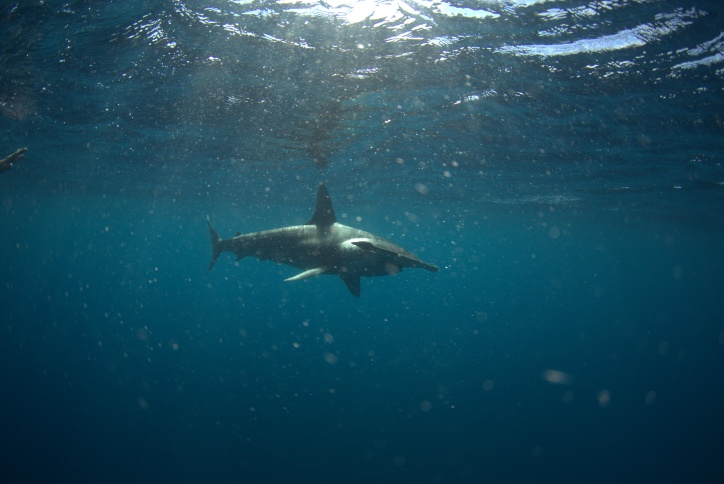Hammer: (189, 167, 453, 319)
